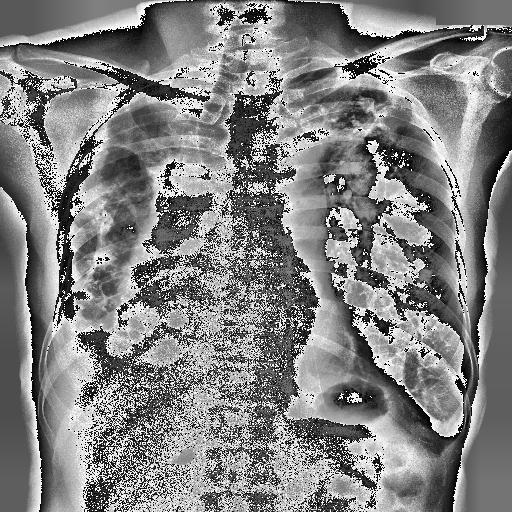1- Atelectasis: (115, 79, 205, 207), (98, 60, 228, 120), (374, 89, 422, 133)
10- Pleural effusion: (36, 293, 132, 409), (33, 288, 98, 382), (422, 410, 466, 460), (429, 419, 463, 461)
11- Pleural thickening: (54, 117, 114, 323), (44, 309, 156, 371), (33, 288, 98, 382), (326, 54, 426, 113), (94, 62, 203, 104), (422, 410, 466, 460), (429, 419, 463, 461)
13- Pulmonary fibrosis: (62, 74, 196, 290), (292, 83, 407, 212), (308, 88, 425, 181), (74, 180, 118, 314), (323, 98, 395, 135)
2- Calcification: (54, 117, 114, 323), (308, 88, 425, 181), (74, 180, 118, 314), (352, 98, 392, 134), (416, 266, 432, 284), (416, 266, 432, 282)
4- Consolidation: (106, 124, 230, 344)
7- Lung Opacity: (62, 74, 196, 290)
8- Nodule-Mass: (340, 138, 379, 194), (416, 266, 432, 282), (74, 292, 96, 303), (416, 267, 431, 283)
